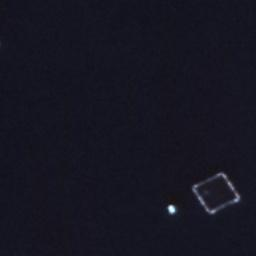square_solid: (187, 168, 246, 220)
